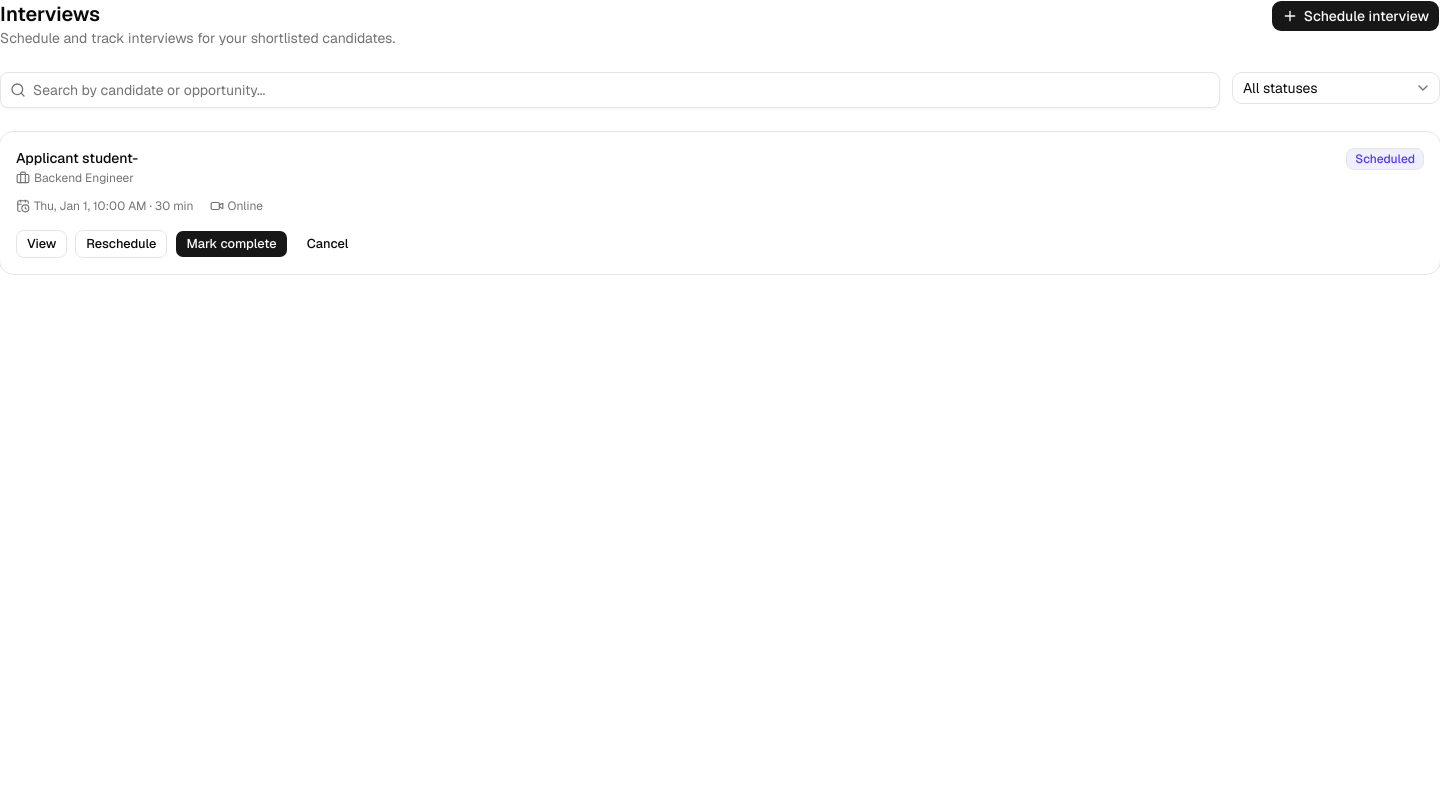
Scenario: InterviewsListView › excludes candidates that already have a live interview from the picker
Click the button "Schedule interview" at (1355, 16), box [1271,0,1439,32]
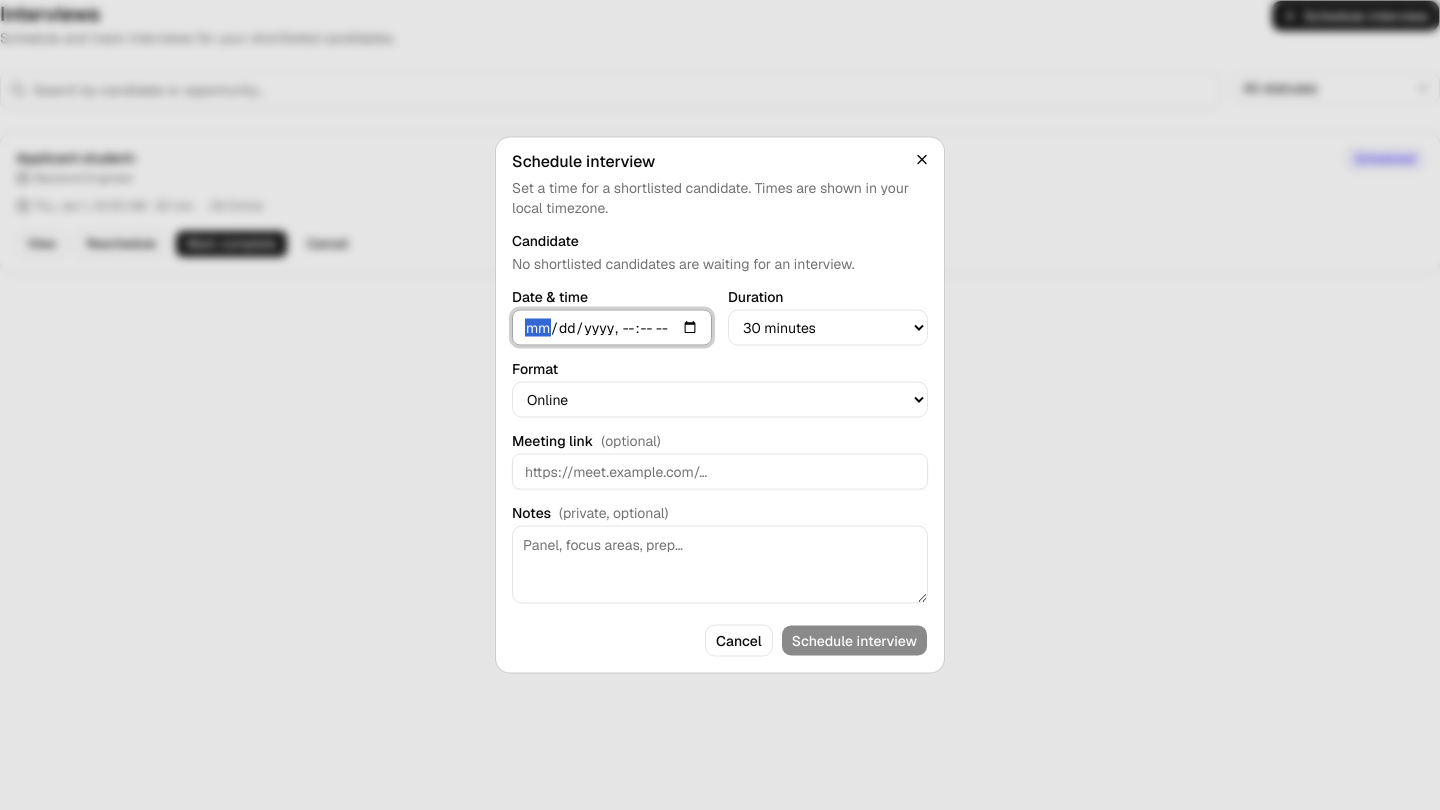
Expected: the text "No shortlisted candidates are waiting for an interview." is shown, [512,254,854,272]
